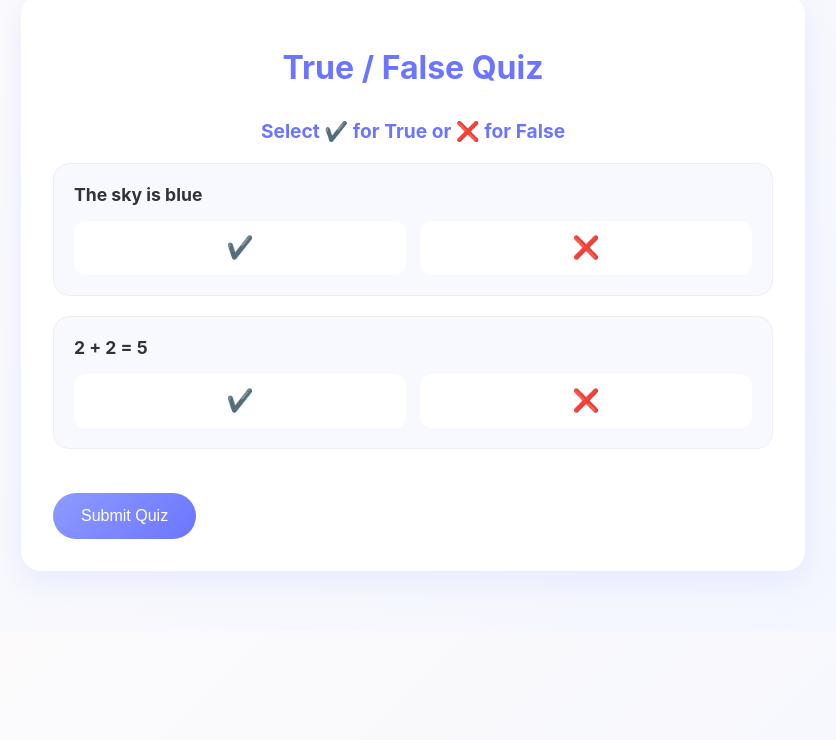
Test: TrueFalseQuizPage Component › marks correct and wrong answers
Click the button "✔️" below "The sky is blue". click: (240, 248)
box: 74,221 -> 406,275
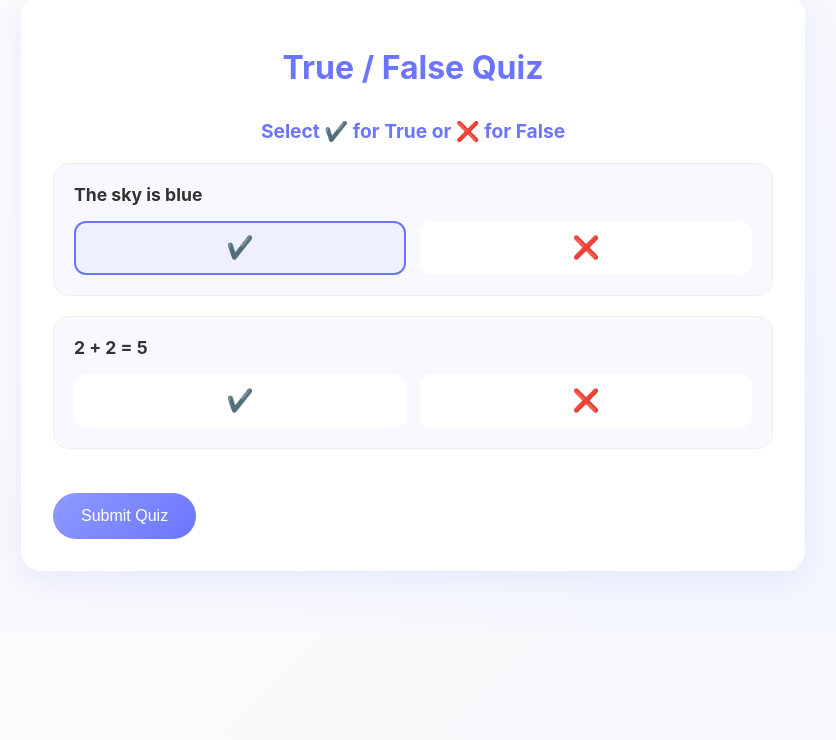
Click the button "✔️" below "2 + 2 = 5". click: (240, 401)
box: 74,374 -> 406,428
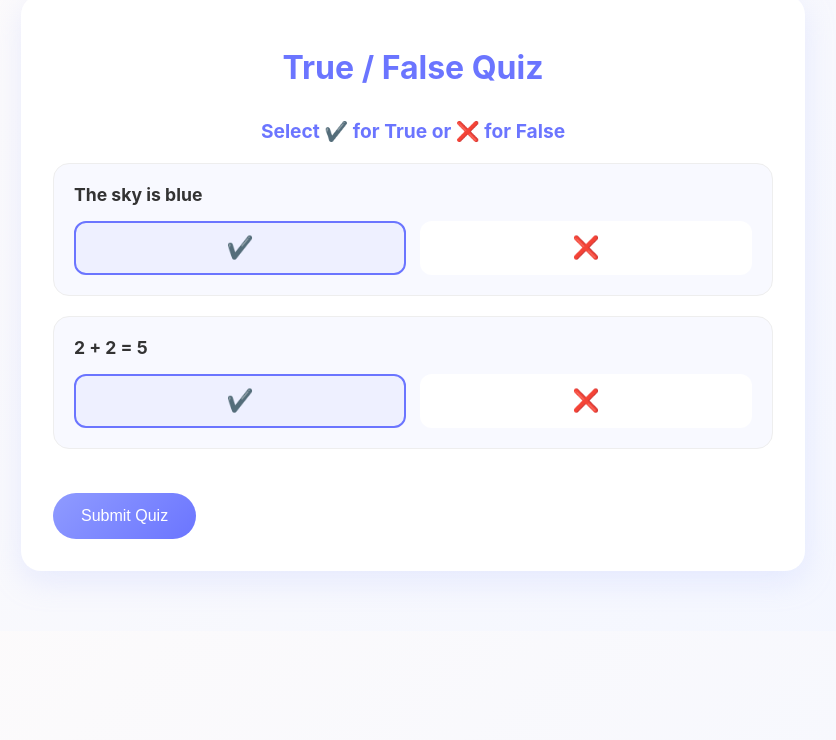
Click the button "Submit Quiz". click: (125, 516)
box: 53,493 -> 196,539
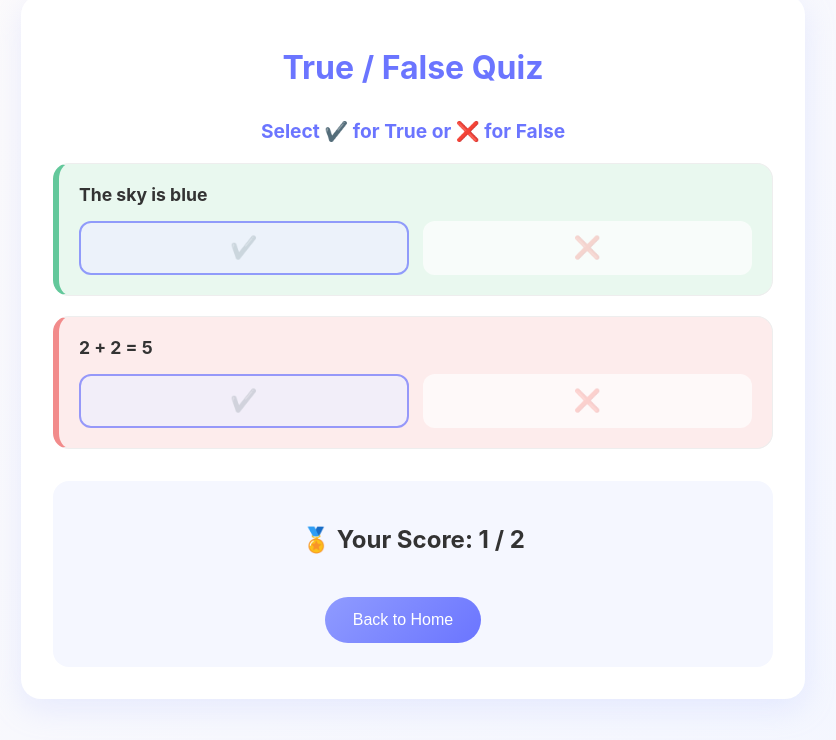
expect the heading "🏅 Your Score: 1 / 2" is shown: met, box 301,524 -> 525,554
